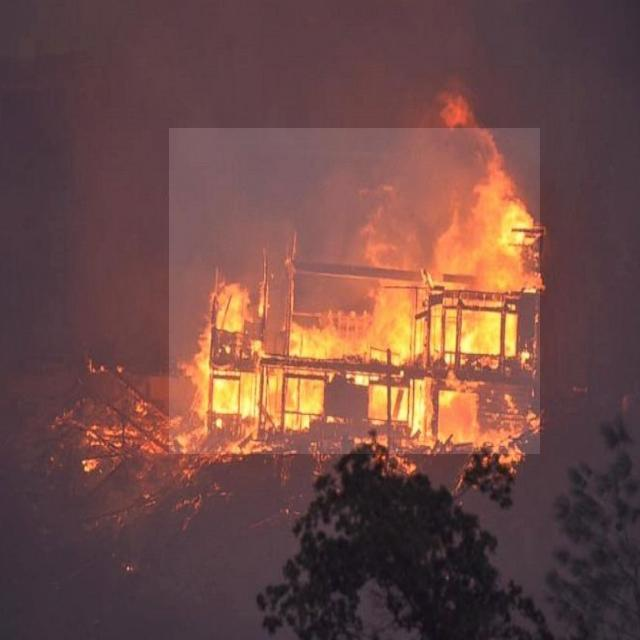Fire: (169, 128, 540, 454)
